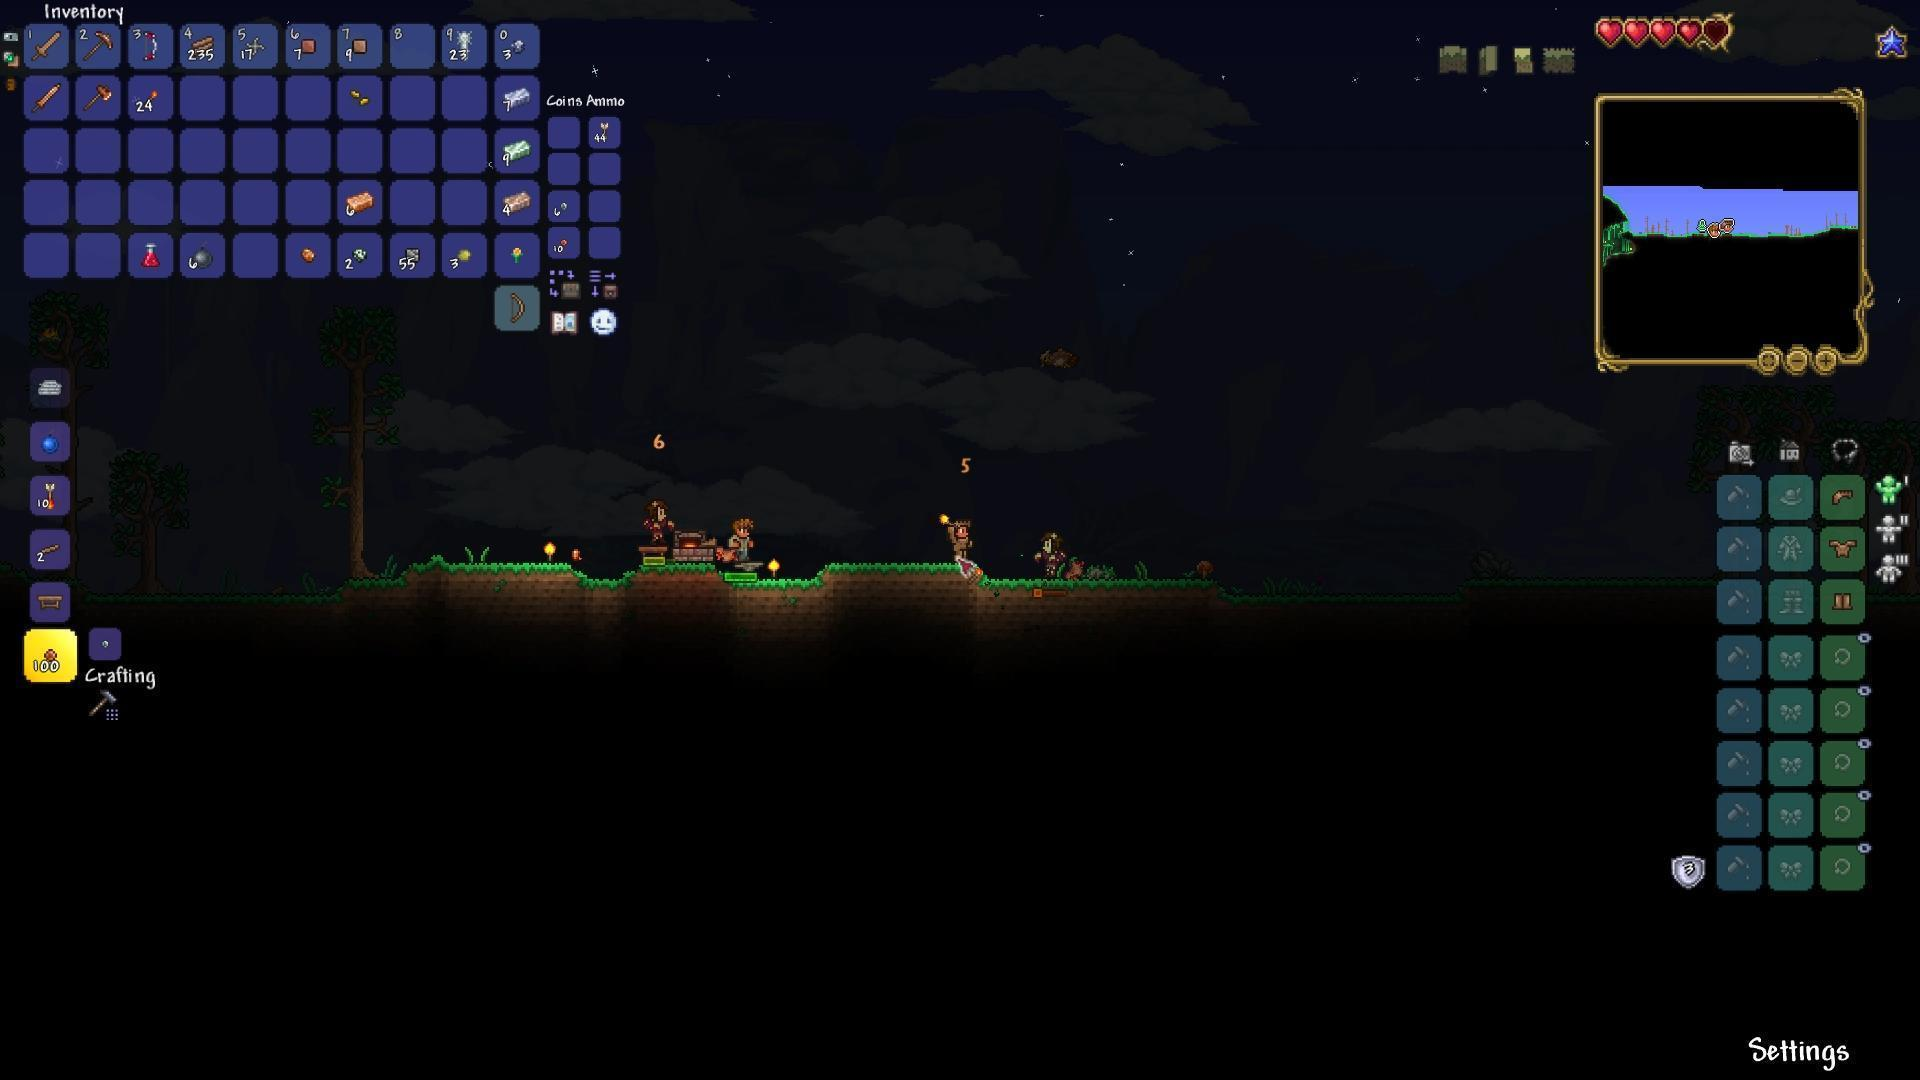anvil: (731, 559, 765, 578)
arrow: (44, 480, 58, 510), (597, 120, 612, 142)
axe: (79, 84, 116, 113)
bomb: (191, 240, 215, 269)
bow: (140, 29, 162, 62)
breastplate: (1828, 538, 1858, 559)
furnace: (667, 529, 717, 563)
gel: (456, 245, 475, 265)
helmet: (1832, 487, 1855, 508)
legs: (1829, 585, 1853, 615)
pickaxe: (80, 30, 113, 65)
rope: (454, 32, 472, 58)
shuriken: (245, 36, 265, 55)
sword: (29, 30, 65, 66), (28, 82, 65, 116)
wood: (191, 36, 214, 53)
workbench: (633, 541, 670, 564), (33, 592, 62, 611)
zombie: (1038, 529, 1067, 582), (646, 493, 673, 542)
